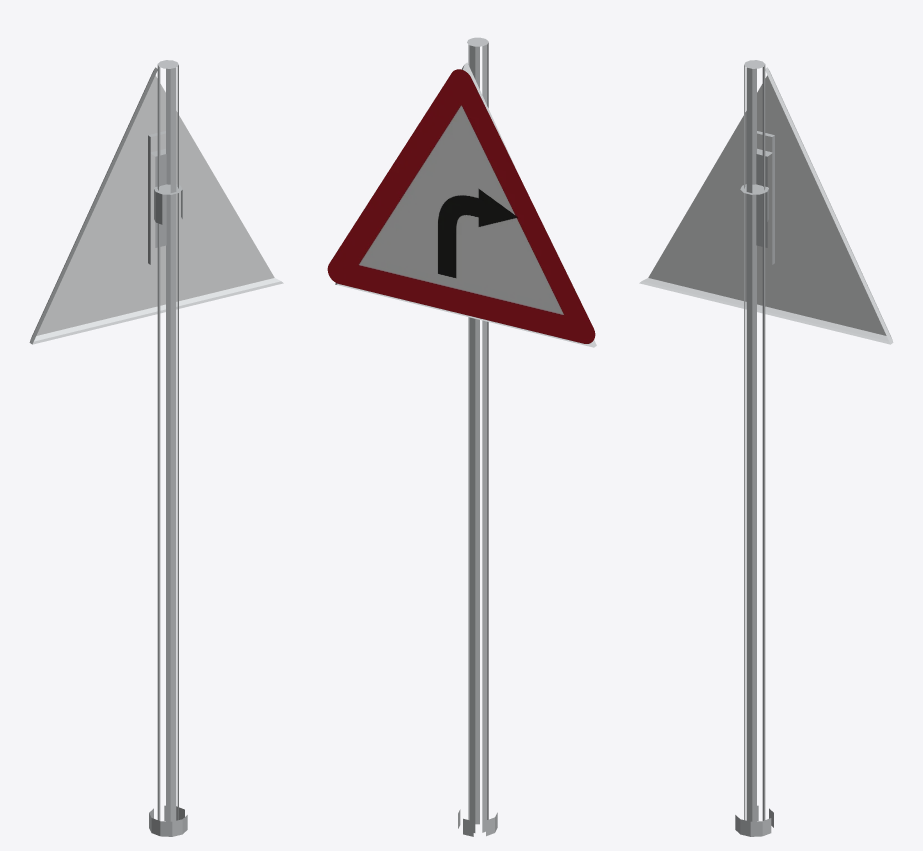
Rendered from sign_warning_bend.glb.
3 views of the same model, side by side, from view 1: azimuth 30°, elevation 25°; view 2: azimuth 150°, elevation 25°; view 3: azimuth 330°, elevation 25° (orthographic). The views are drawn at different scales.
Visible parts, largest first — view 1: sign_warning_bend; view 2: sign_warning_bend; view 3: sign_warning_bend.
Part boxes in pixels (bbox=[...]): sign_warning_bend: bbox=[29, 60, 283, 836]; sign_warning_bend: bbox=[327, 37, 596, 836]; sign_warning_bend: bbox=[639, 60, 893, 836].
Bounding box in the file's own units: 0.95 × 2.53 × 0.1488.
Materials: 5 (1 with a texture image).
